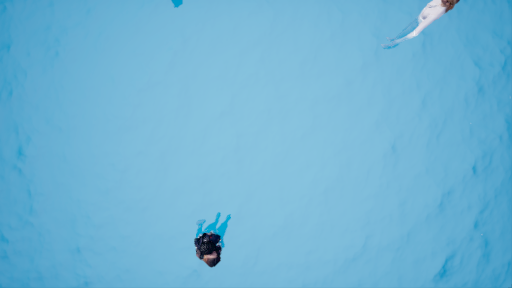person: (381, 1, 470, 53), (180, 200, 243, 267)
